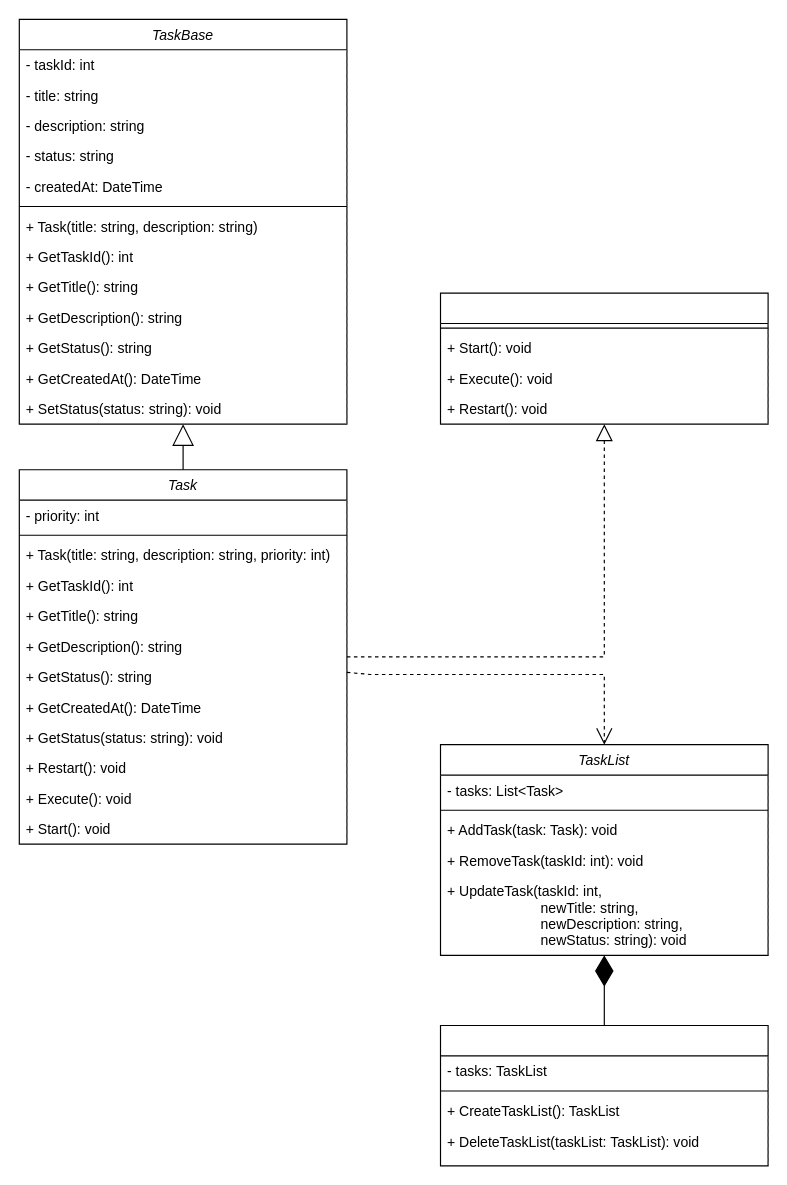
Some shapes in this 787 by 1185 pixel diagram are drawn without their labels. Here are the shapes that lost their labels. From the top down, the box of each, then its label:
(439, 292, 768, 424): IState
(439, 1024, 768, 1166): Notebook
